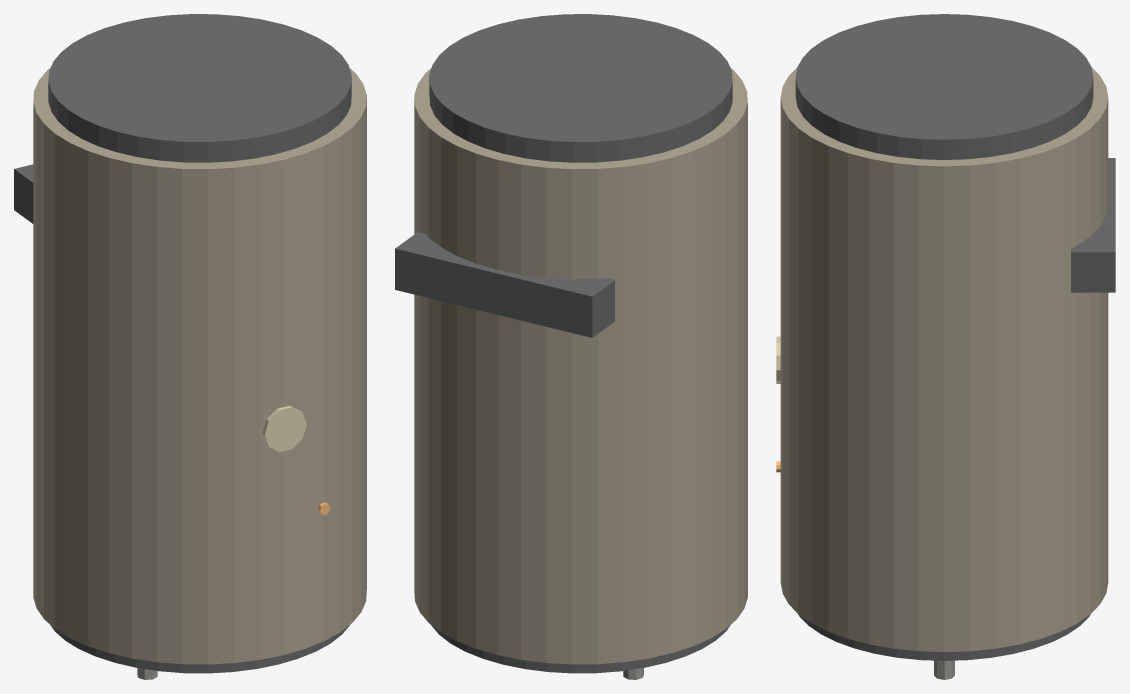
File: boiler-drum.glb
3 views of the same model, side by side, from view 1: azimuth 30°, elevation 25°; view 2: azimuth 150°, elevation 25°; view 3: azimuth 270°, elevation 25° (orthographic).
Visible parts, largest first — view 1: plastic-light, metal, dial; view 2: plastic-light, metal; view 3: plastic-light, metal.
Boxes of the visible parts, box(x1,y1,x2,y2) form: plastic-light: box(33, 68, 366, 664); metal: box(14, 14, 351, 673); dial: box(262, 405, 306, 452); plastic-light: box(414, 68, 747, 664); metal: box(395, 14, 732, 673); plastic-light: box(780, 67, 1108, 651); metal: box(795, 14, 1115, 660).
Size of the model in its own units: 0.44 by 0.85 by 0.456.
